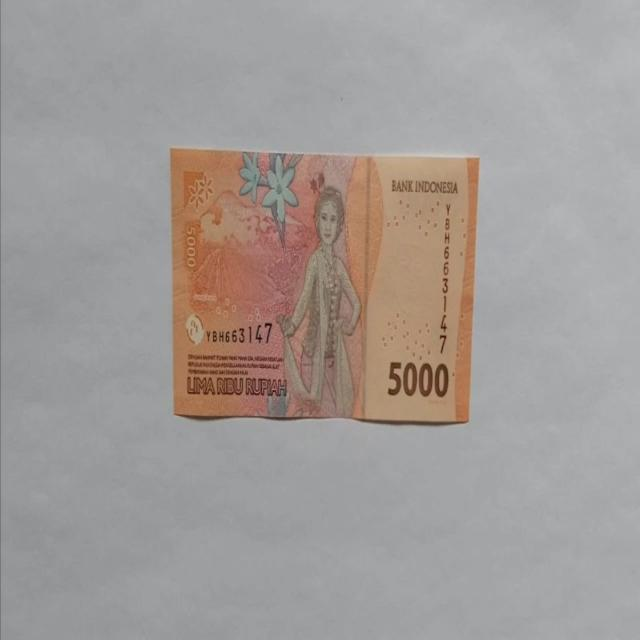lima ribu rupiah: (169, 148, 479, 424), (275, 185, 362, 418)
